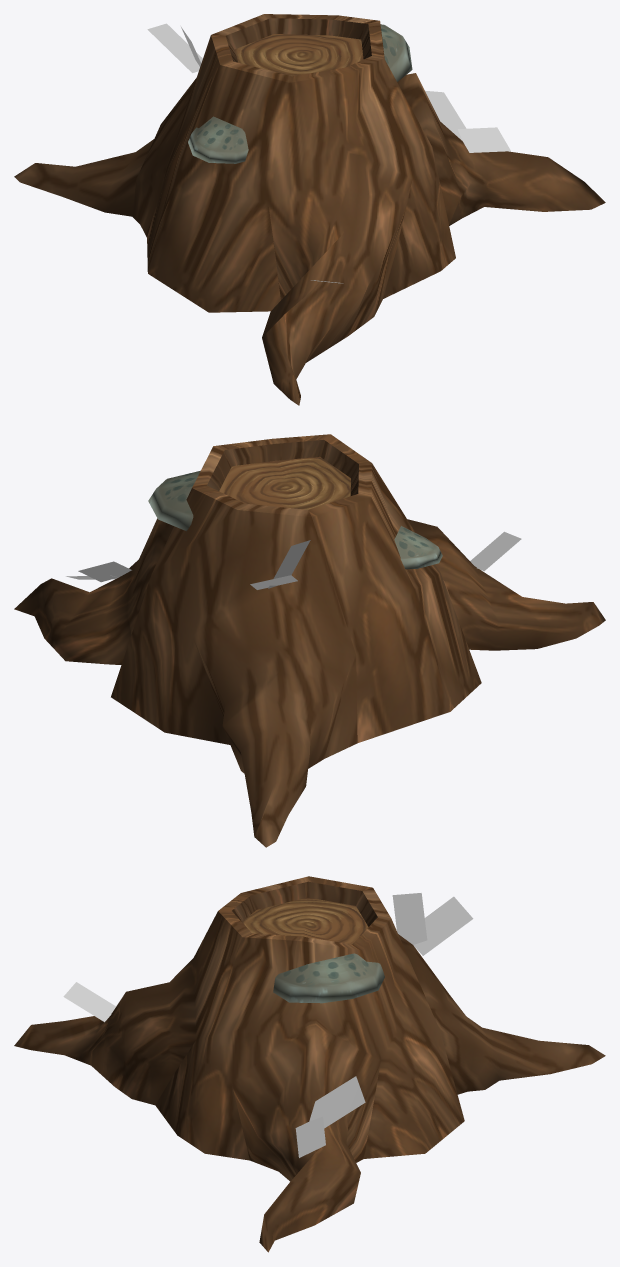
Rendered from Trunk_01.fbx.
The picture shows the model from 3 angles, top to bottom: view 1: azimuth 30°, elevation 25°; view 2: azimuth 150°, elevation 25°; view 3: azimuth 270°, elevation 25°; orthographic projection. The views are drawn at different scales.
Visible parts, largest first — view 1: Tree_cut_01_green; view 2: Tree_cut_01_green; view 3: Tree_cut_01_green.
Part boxes in pixels (left/top/right/bottom): Tree_cut_01_green: left=14, top=14, right=605, bottom=405; Tree_cut_01_green: left=14, top=434, right=605, bottom=847; Tree_cut_01_green: left=14, top=876, right=605, bottom=1252.
Bounding box in the file's own units: 2.48 × 1.19 × 2.99.
